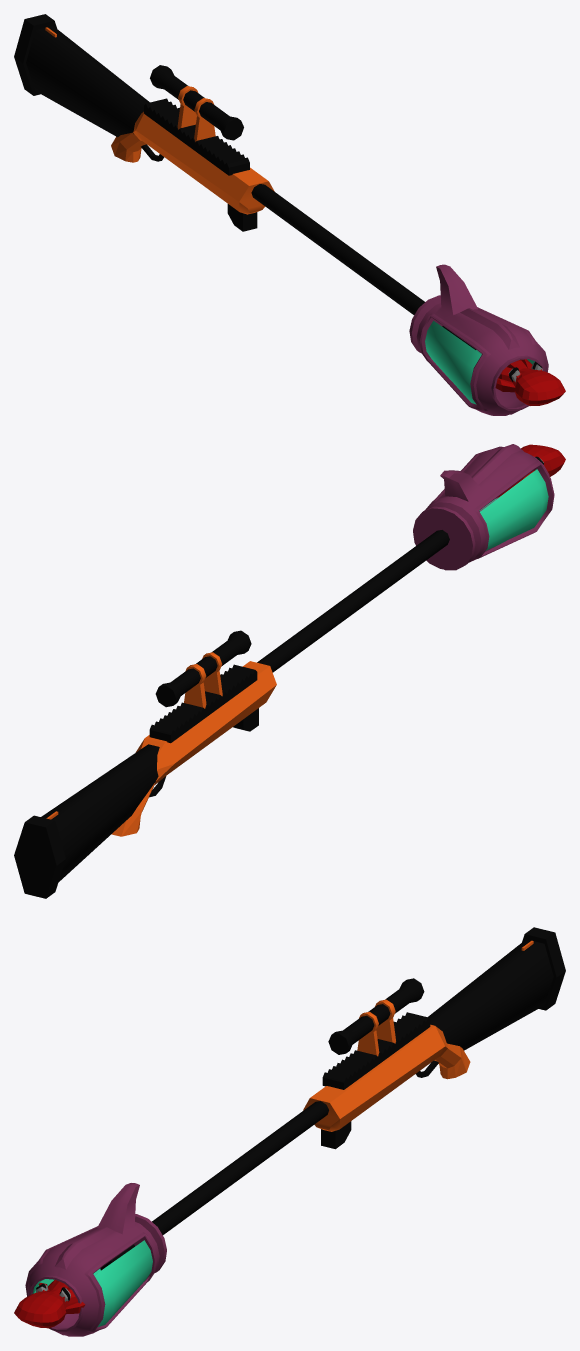
Rendered from Sniper_Rebondissant.fbx.
The picture shows the model from 3 angles, top to bottom: view 1: azimuth 30°, elevation 25°; view 2: azimuth 150°, elevation 25°; view 3: azimuth 330°, elevation 25°; orthographic projection.
Parts seen in each view (by area): view 1: Sniper, Module_Rebondissant; view 2: Sniper, Module_Rebondissant; view 3: Sniper, Module_Rebondissant.
Part boxes in pixels (left/top/right/bottom): Sniper: left=14, top=14, right=476, bottom=349; Module_Rebondissant: left=409, top=264, right=565, bottom=415; Sniper: left=14, top=511, right=479, bottom=898; Module_Rebondissant: left=413, top=444, right=565, bottom=570; Sniper: left=100, top=927, right=565, bottom=1270; Module_Rebondissant: left=14, top=1183, right=166, bottom=1336.
Bounding box in the file's own units: 13.26 × 19.67 × 150.
